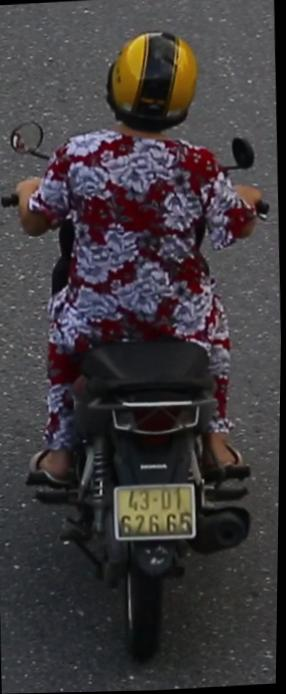LP: (111, 477, 202, 547)
helmet: (100, 23, 205, 157)
